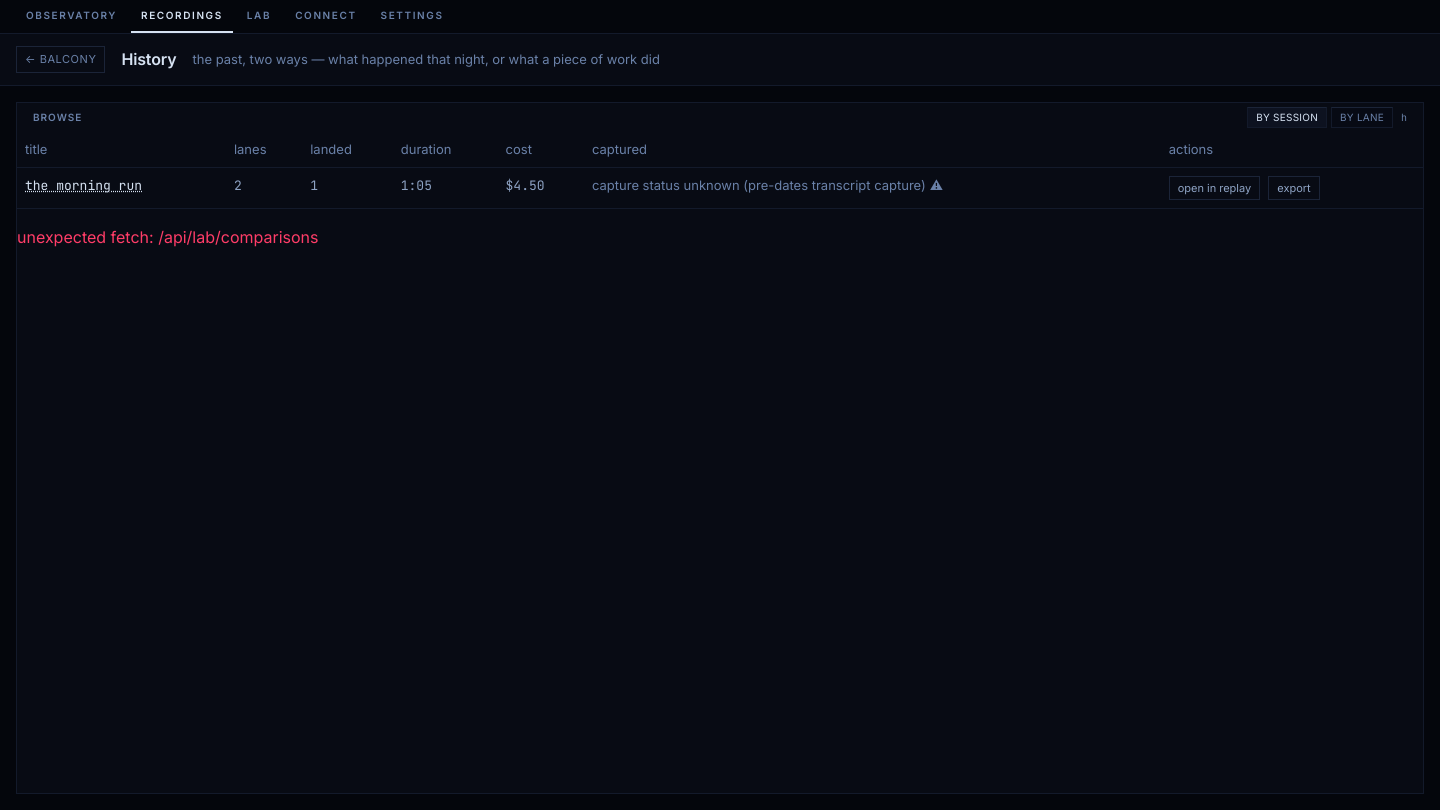
Test: one surface, two axes (ruling 8) › costs the switch no re-fetch — both axes are loaded before either is asked for
Click the button with test id "history-representation-lane". click: (1362, 117)
box: [1331,106,1393,128]
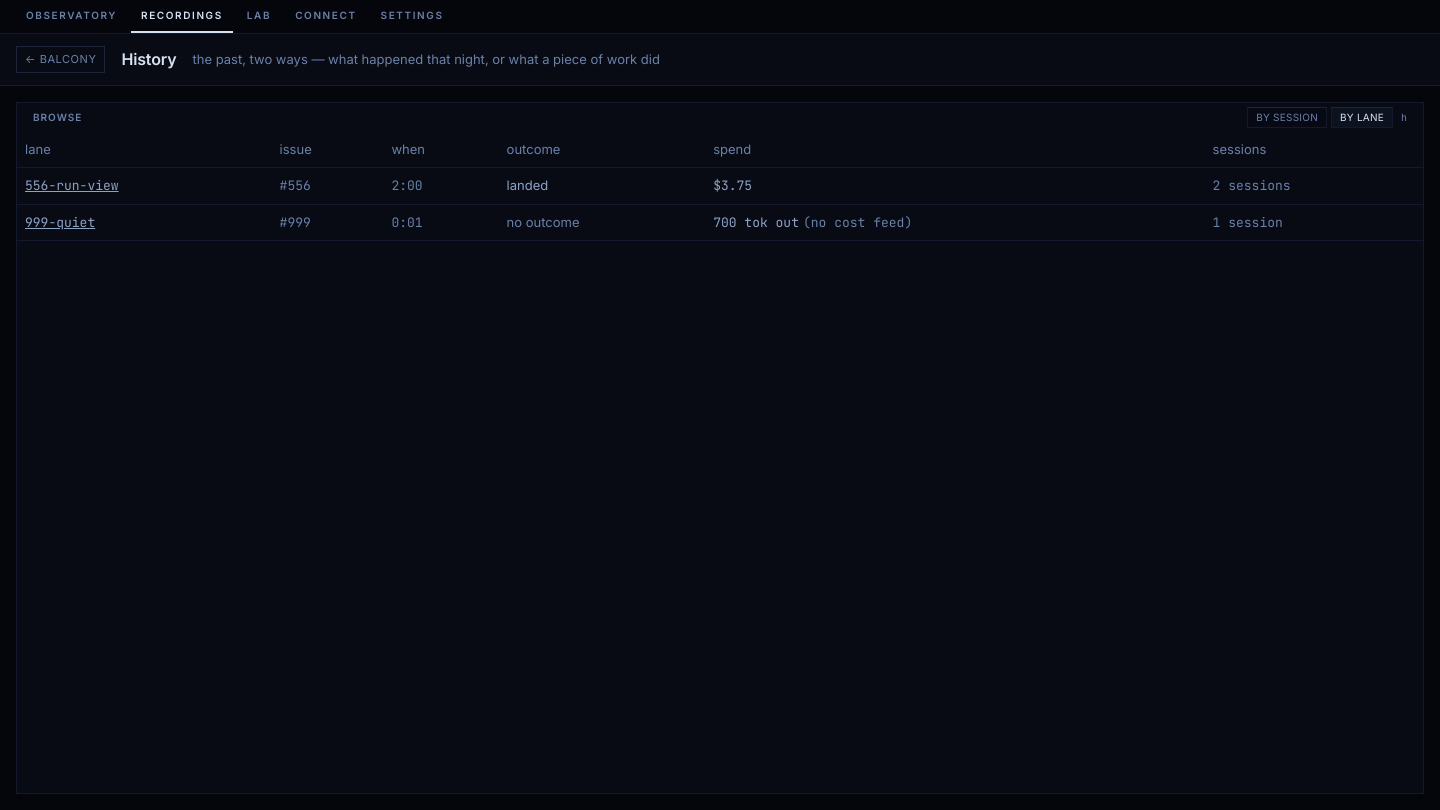
Now the table with test id "history-lane-table" is shown, box [17,132,1423,241]
